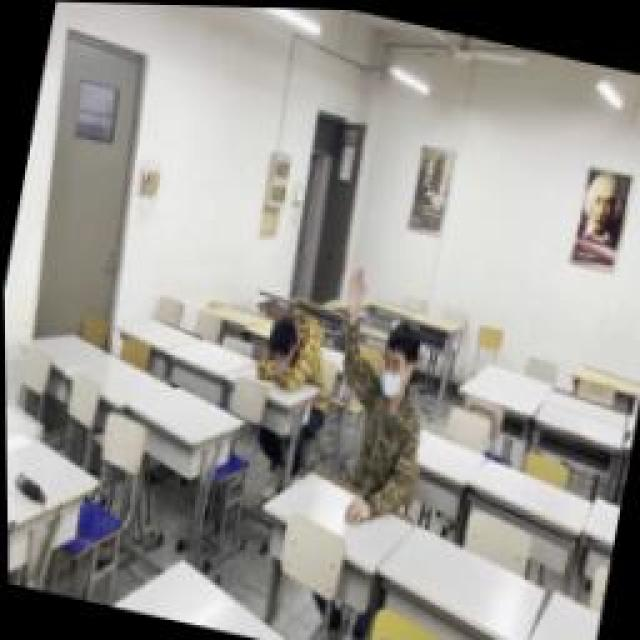sleep: (252, 310, 328, 392)
study: (308, 263, 450, 525)
